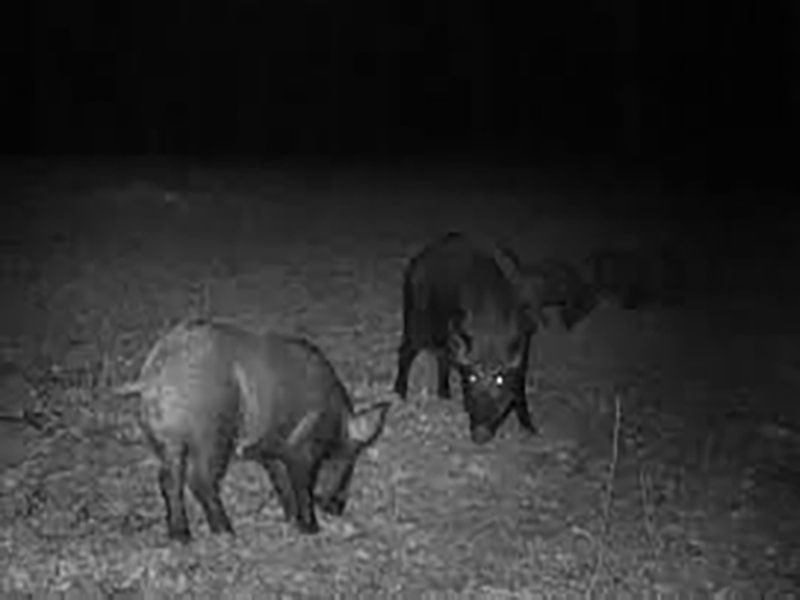cinghiale: (116, 313, 389, 544), (391, 233, 540, 453)
